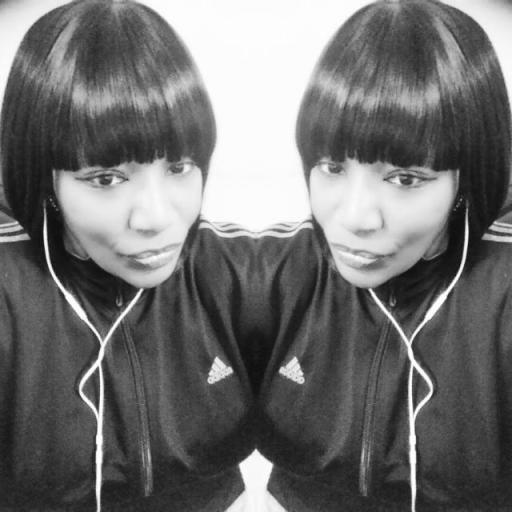Adidas: (204, 352, 232, 386), (276, 355, 306, 386)
